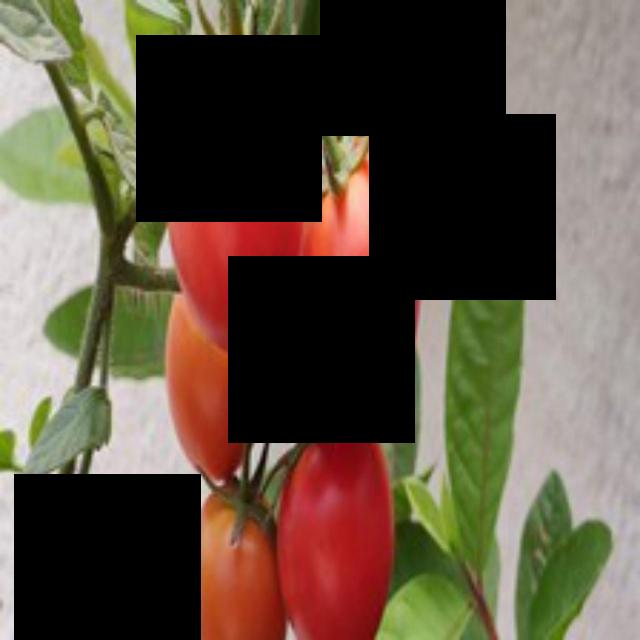tomato: (164, 32, 312, 360), (283, 121, 422, 436), (280, 431, 402, 637), (158, 285, 270, 483), (172, 480, 282, 637)
